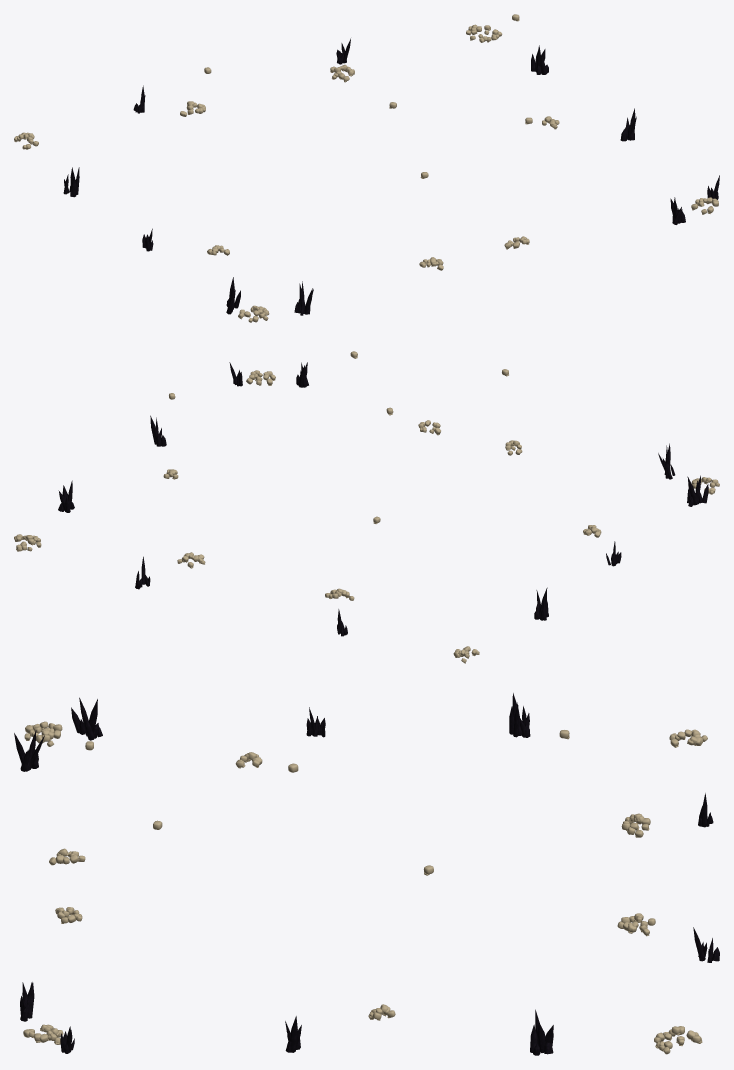
File: tb_hellx2_p1.glb
The picture shows the model from 3 angles, top to bottom: view 1: azimuth 30°, elevation 25°; view 2: azimuth 150°, elevation 25°; view 3: azimuth 270°, elevation 25°; orthographic projection. The views are drawn at different scales.
Parts seen in each view (by area): view 1: tb_hellx2_p1; view 2: tb_hellx2_p1; view 3: tb_hellx2_p1.
Part boxes in pixels (bbox=[...]): tb_hellx2_p1: bbox=[14, 14, 719, 322]; tb_hellx2_p1: bbox=[14, 351, 719, 663]; tb_hellx2_p1: bbox=[14, 693, 719, 1055].
Size of the model in its own units: 68.3 by 13.89 by 62.46.
3 materials, 1 textured.
